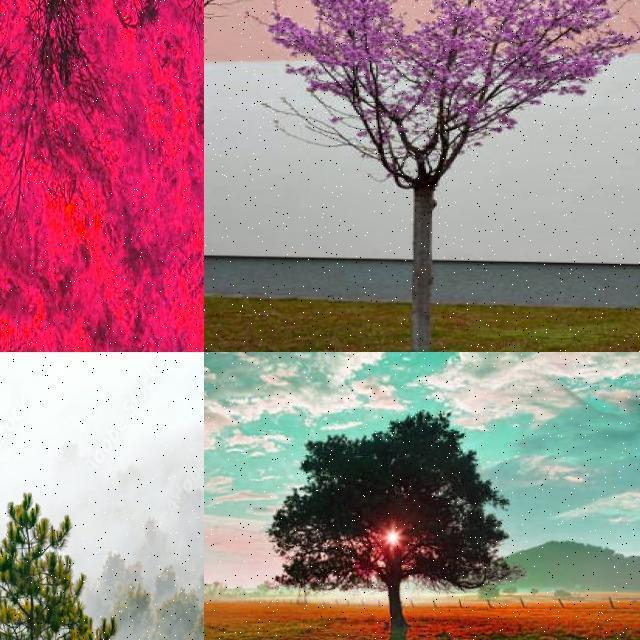tree: (204, 1, 640, 256), (271, 392, 523, 640), (0, 1, 78, 336), (0, 494, 116, 640)
